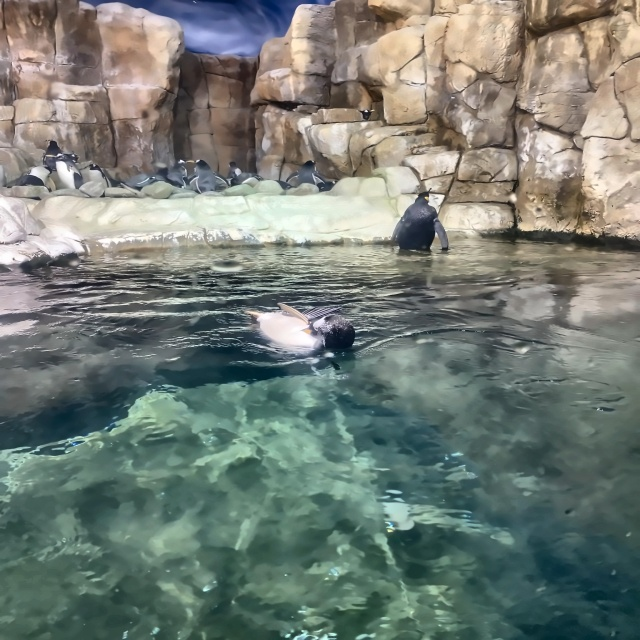penguin: (245, 302, 357, 352), (388, 188, 450, 257), (286, 160, 328, 194), (45, 153, 84, 189), (110, 173, 185, 190), (190, 158, 225, 192), (26, 166, 55, 192), (168, 159, 193, 188), (85, 164, 108, 188), (43, 141, 62, 170), (231, 172, 262, 184), (16, 175, 44, 186), (228, 162, 241, 180), (60, 153, 80, 163), (0, 159, 7, 186)
